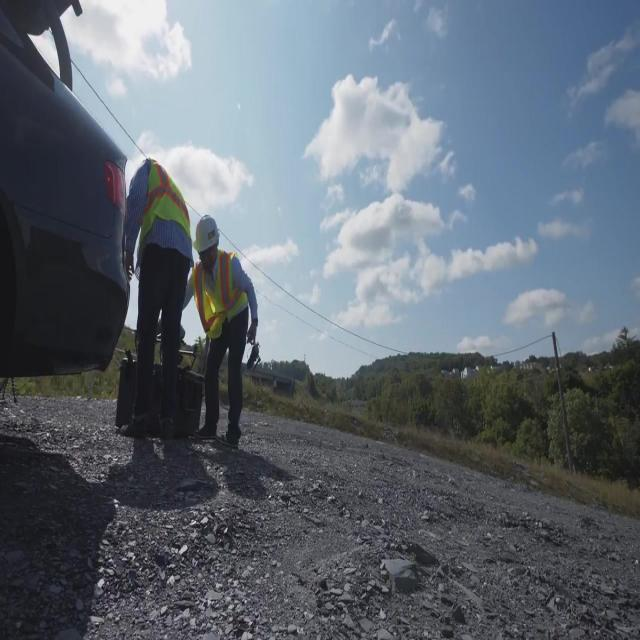Reflective-Jacket: (130, 156, 198, 262), (190, 251, 254, 349)
Safety-Helmet: (135, 127, 171, 179), (192, 206, 224, 259)
